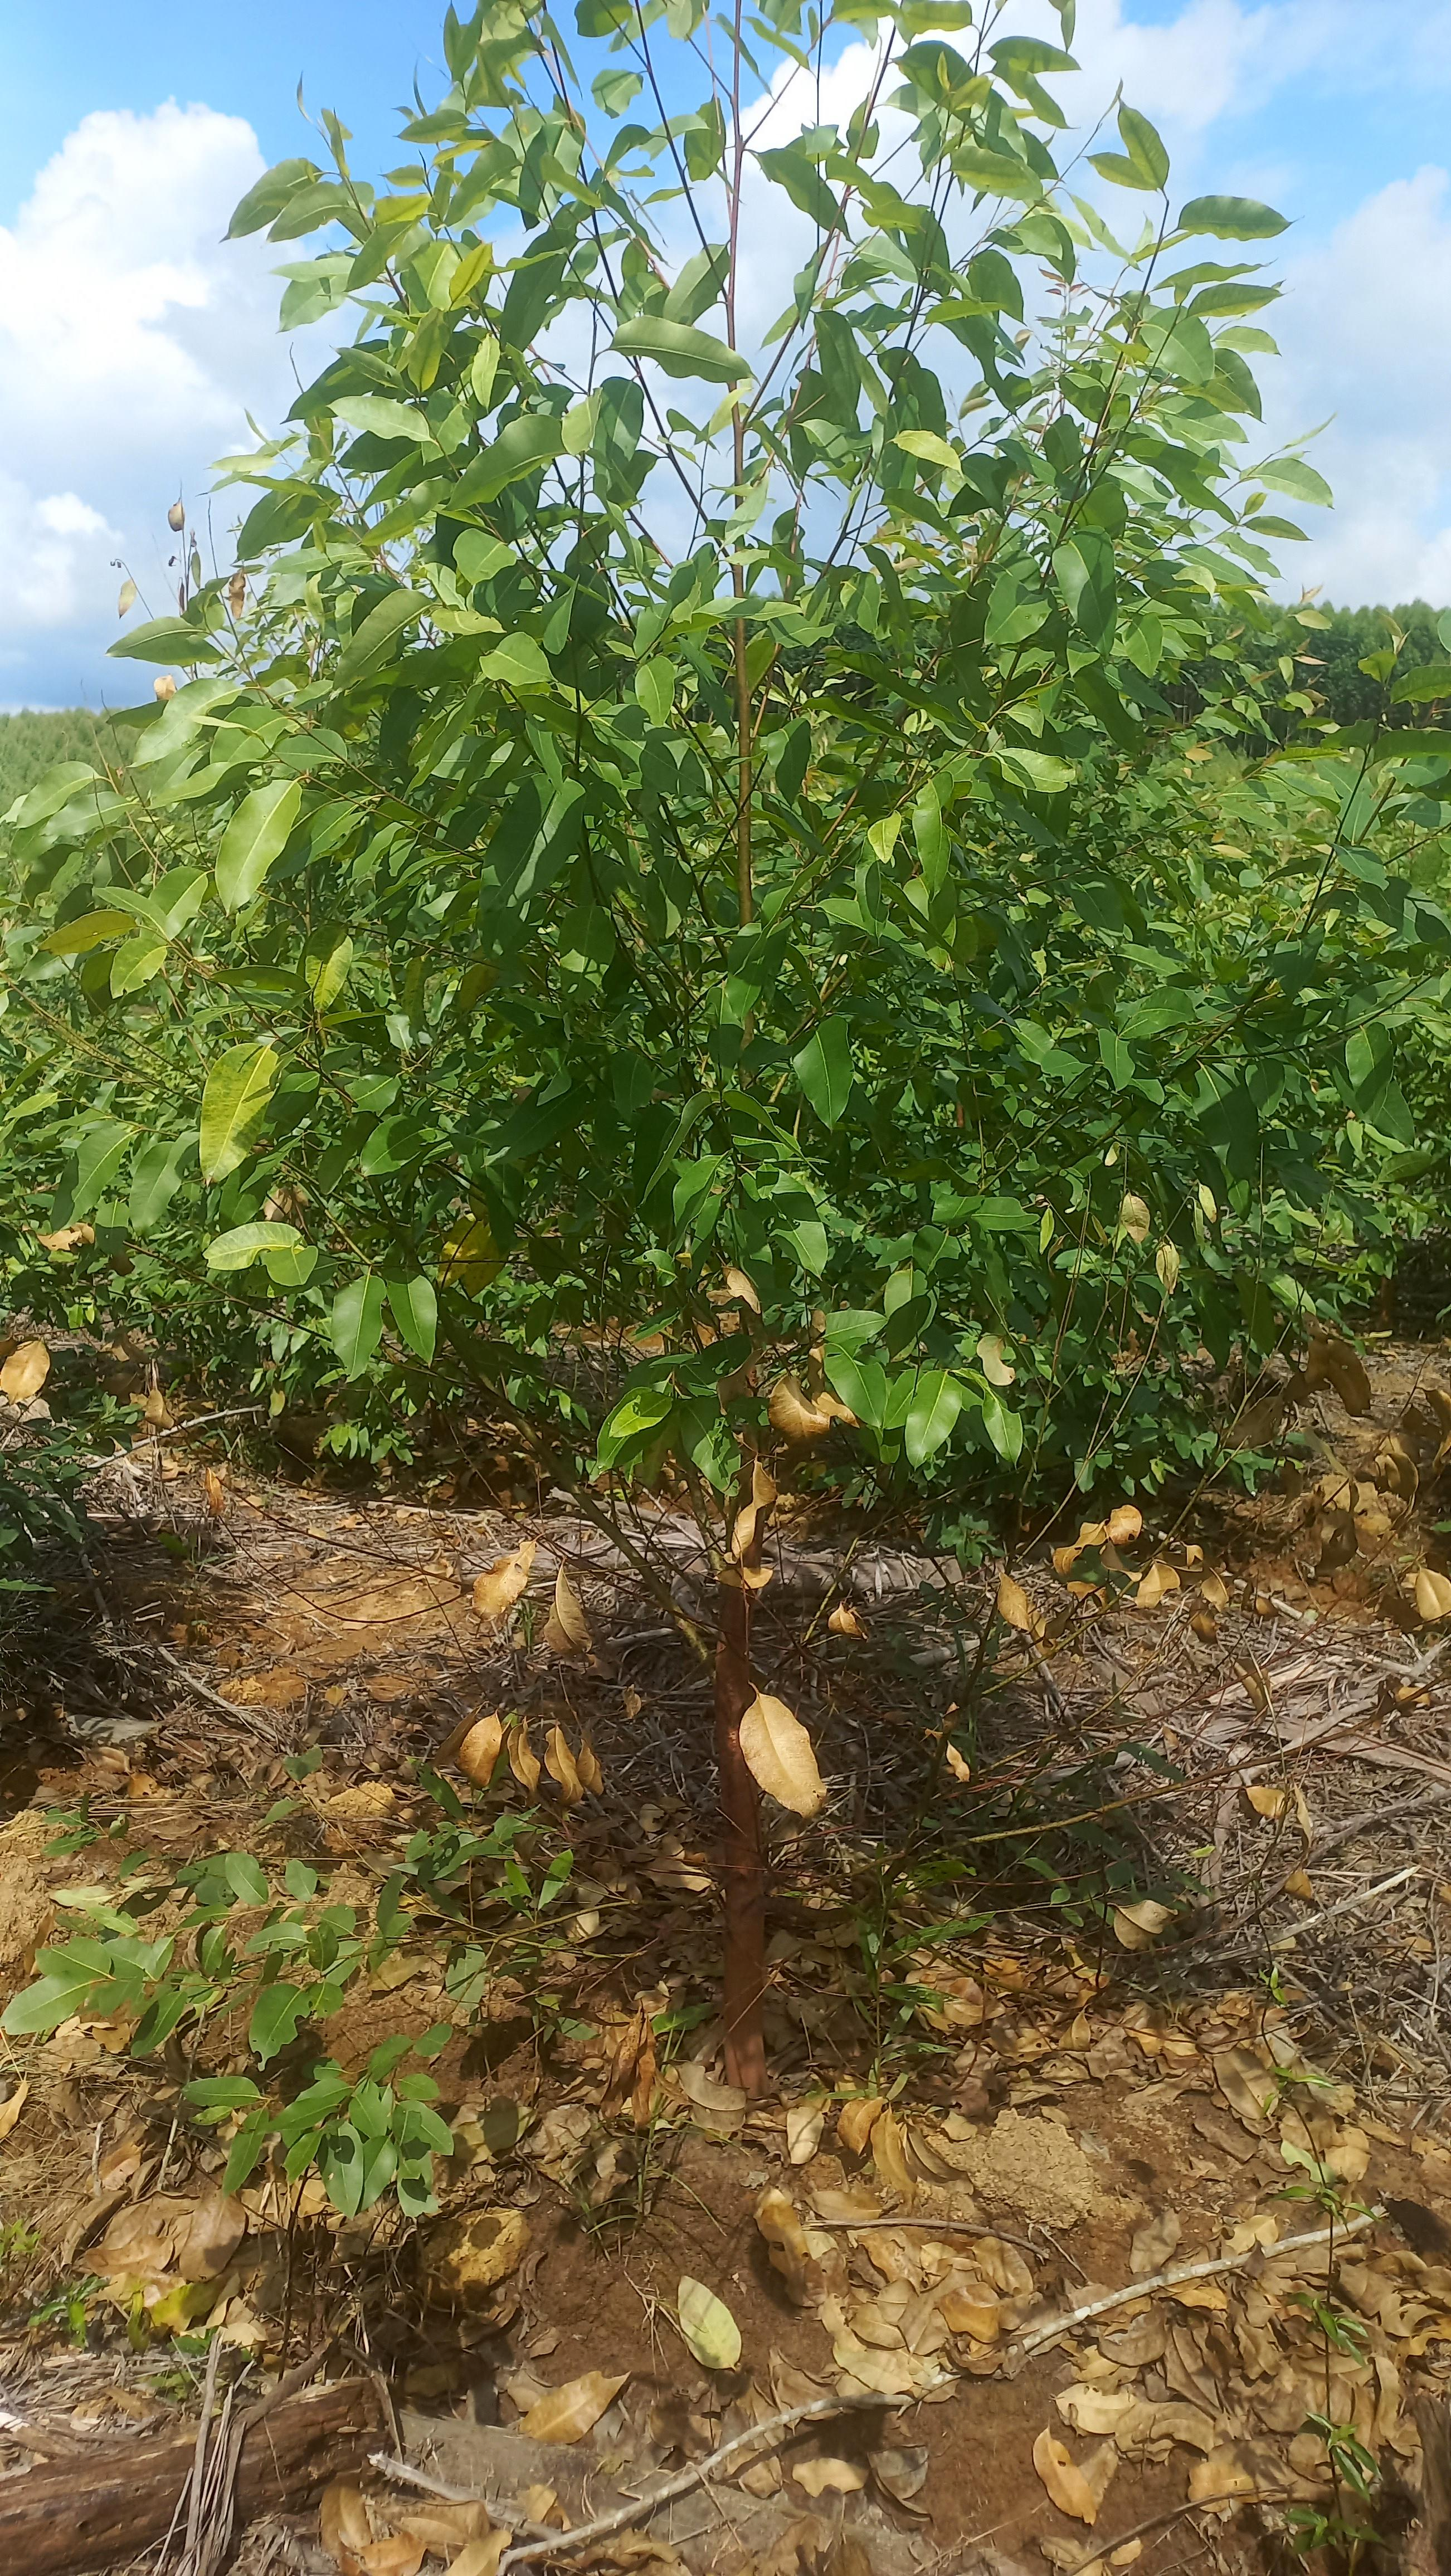Wither Tree Parts: (73, 1214, 1446, 1840), (214, 557, 264, 628), (149, 669, 186, 724)
